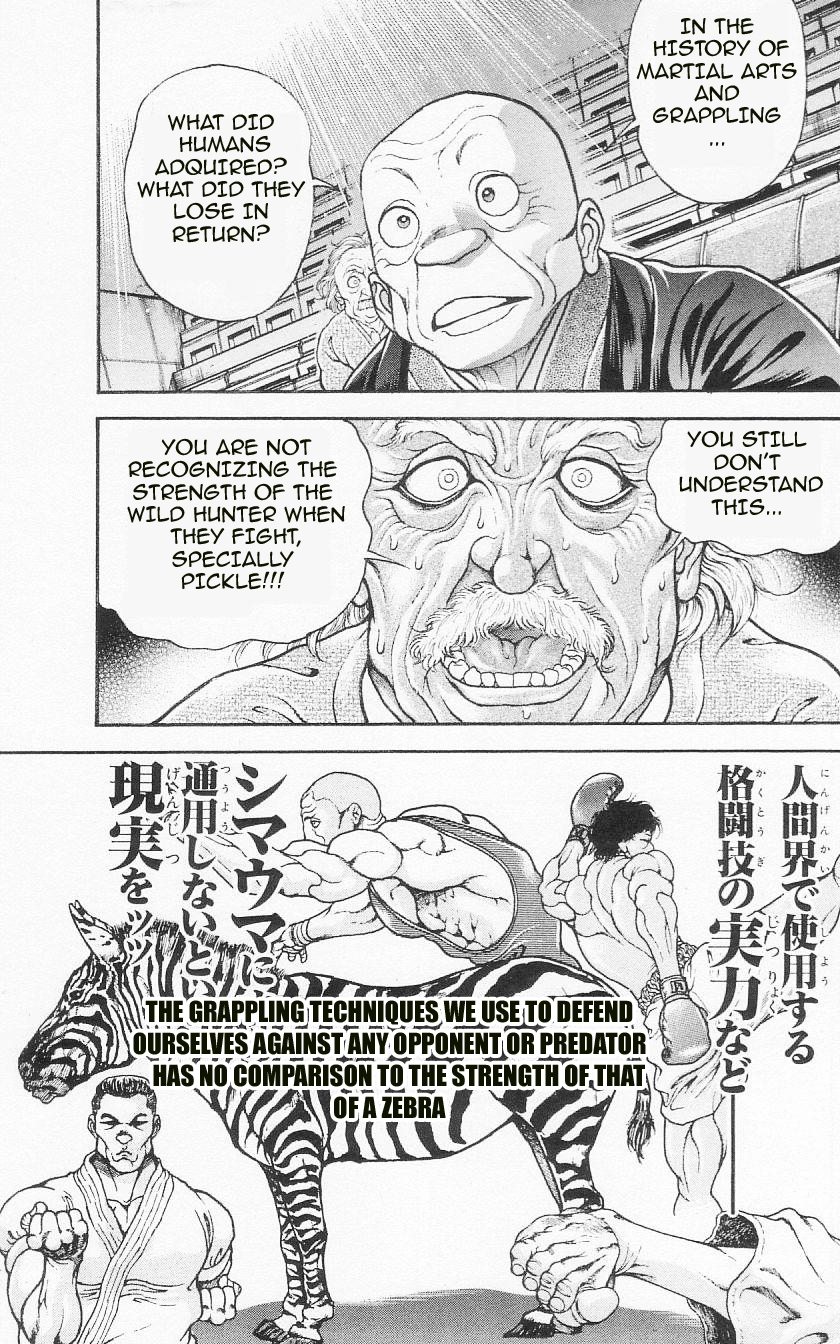Baloon: (94, 418, 374, 651), (123, 65, 325, 323), (633, 1, 804, 206), (645, 418, 840, 559)
Vignetta: (1, 751, 837, 1343), (100, 1, 840, 395), (90, 423, 840, 727)
